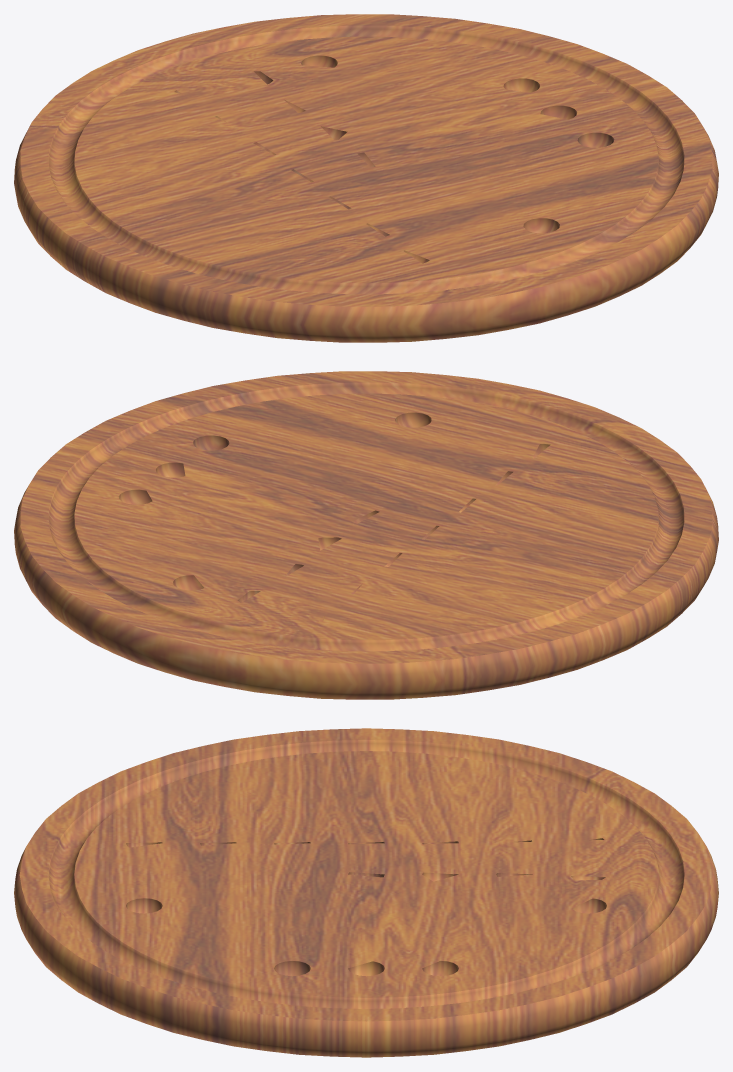
The model's file is board.fbx.
3 renders of one model, top to bottom at view 1: azimuth 30°, elevation 25°; view 2: azimuth 150°, elevation 25°; view 3: azimuth 270°, elevation 25°, orthographic.
Visible parts, largest first — view 1: Cylinder; view 2: Cylinder; view 3: Cylinder.
Boxes of the visible parts, x1,y1,x2,y2 form: Cylinder: [14, 14, 718, 342]; Cylinder: [14, 371, 718, 699]; Cylinder: [14, 728, 718, 1057].
Bounding box in the file's own units: 9.52 × 0.5446 × 9.52.
